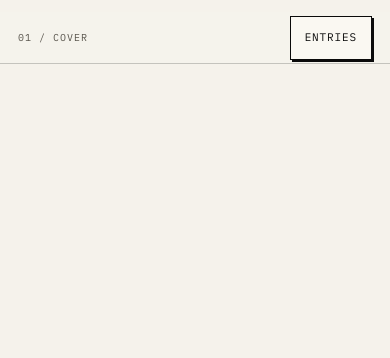
it: MobileStoryNav › closes its entry panel with Escape
Click the button "Entries" at (331, 38), box [290,16,372,60]
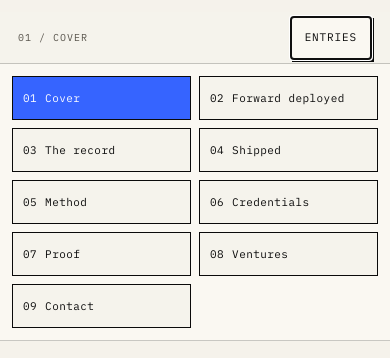
Press Escape
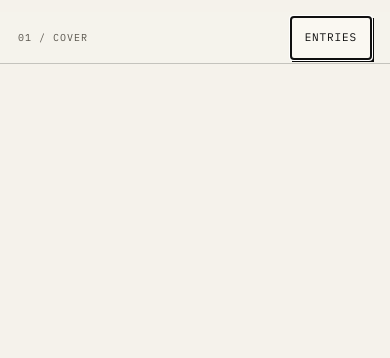
Now the button "The record" is gone
